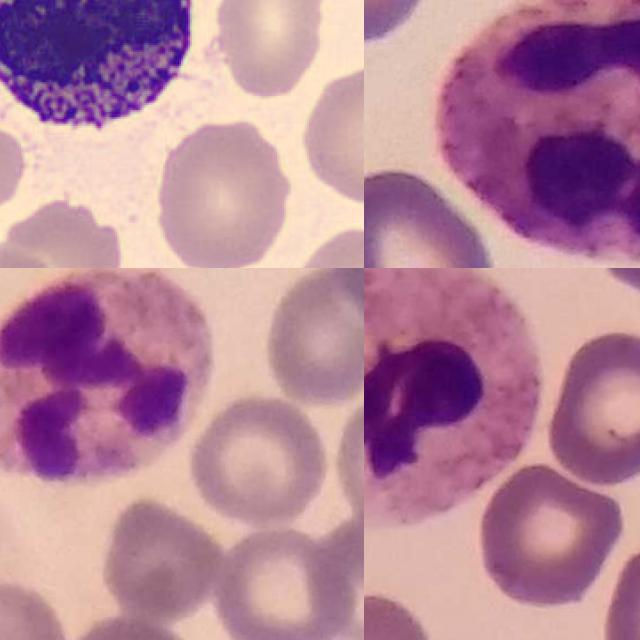Basophil: (0, 0, 207, 143)
Neutrophil: (437, 0, 640, 265), (0, 268, 212, 485), (364, 268, 541, 523)
RBC: (149, 113, 296, 268), (208, 0, 334, 101), (293, 55, 364, 212), (0, 110, 30, 242), (284, 219, 364, 268)
